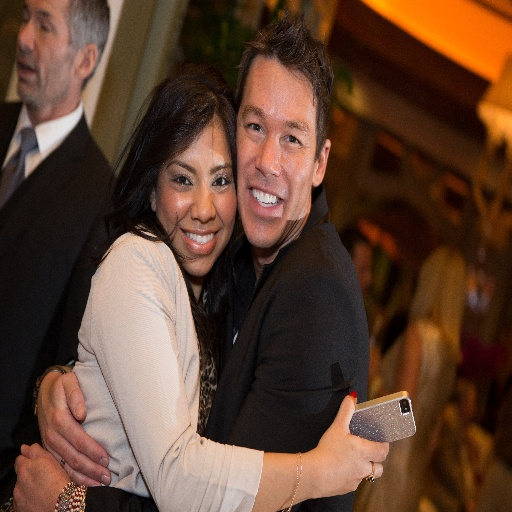hand: (26, 369, 103, 485), (315, 388, 391, 499), (12, 441, 71, 511)
